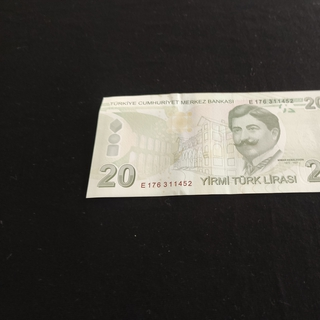20TLBack: (86, 89, 320, 198)
